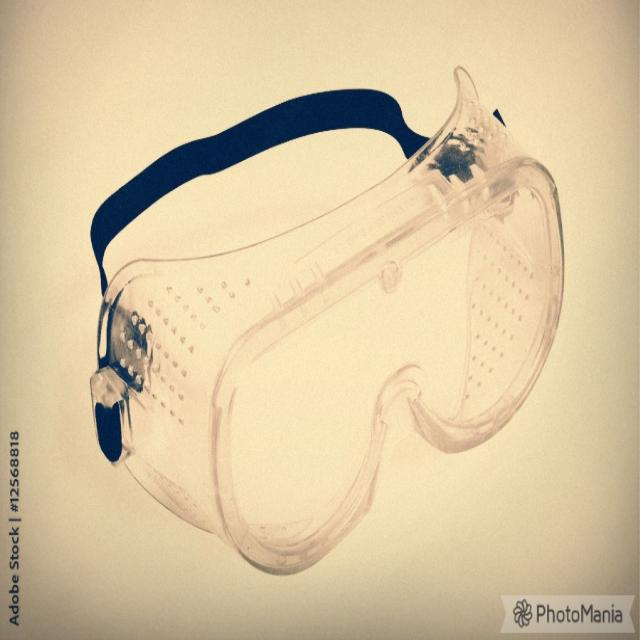Goggles: (69, 59, 570, 585)
